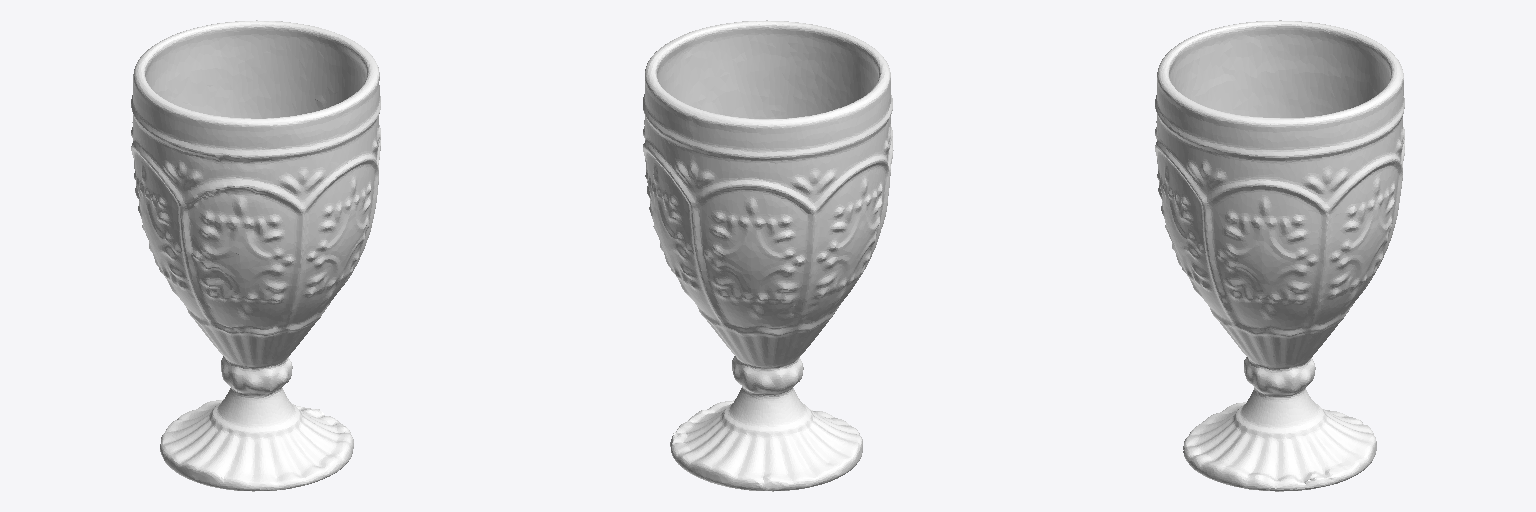
The robot description file, URDF, robot "model.urdf":
<robot name="model.urdf">
    <link name="baseLink">
        <contact>
            <lateral_friction value="0.22"/>
            <rolling_friction value="0.001"/>
            <spinning_friction value="0.001"/>
            <contact_cfm value="0.0"/>
            <contact_erp value="1.0"/>
        </contact>
        <inertial>
            <origin rpy="0 0 0" xyz="0 0.0 0.02"/>
            <mass value=".497"/>
            <inertia ixx="1e-3" ixy="0" ixz="0" iyy="1e-3" iyz="0" izz="1e-3"/>
        </inertial>
        <visual>
            <geometry>
                <mesh filename="nontextured.stl" scale="1 1 1"/>
            </geometry>
            <material name="white">
                <color rgba="1 1 1 1"/>
            </material>
        </visual>
        <collision>
            <geometry>
                <mesh filename="nontextured.stl" scale="1 1 1"/>
            </geometry>
        </collision>
    </link>
</robot>

--- Render facts (derived) ---
Views: 3 orthographic renders of the robot side by side, from view 1: azimuth 30°, elevation 25°; view 2: azimuth 150°, elevation 25°; view 3: azimuth 270°, elevation 25°.
Model model.urdf with 1 links and 0 joints (none), rooted at baseLink, posed every joint at zero.
Visible links, largest first — view 1: baseLink; view 2: baseLink; view 3: baseLink.
Link boxes in pixels (left/top/right/bottom): baseLink: left=131, top=20, right=380, bottom=491; baseLink: left=643, top=20, right=893, bottom=491; baseLink: left=1155, top=20, right=1404, bottom=491.
Bounding box of the posed robot: 0.0925 × 0.0922 × 0.156 m (x, y, z).
Meshes: 1 distinct files referenced, 1 mesh visuals loaded (1 binary STL).